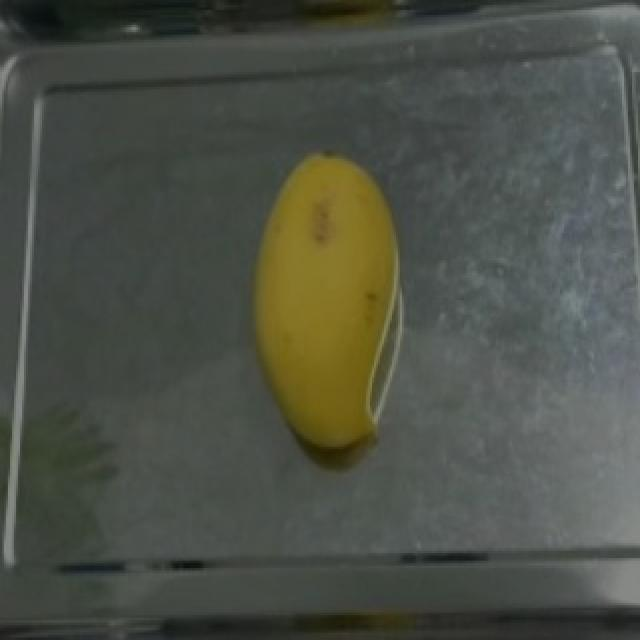fruit: (230, 136, 424, 472)
